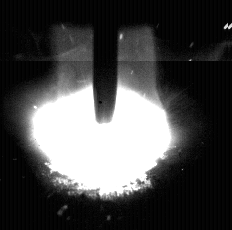arame: (94, 0, 117, 123)
poca: (32, 0, 171, 230)
